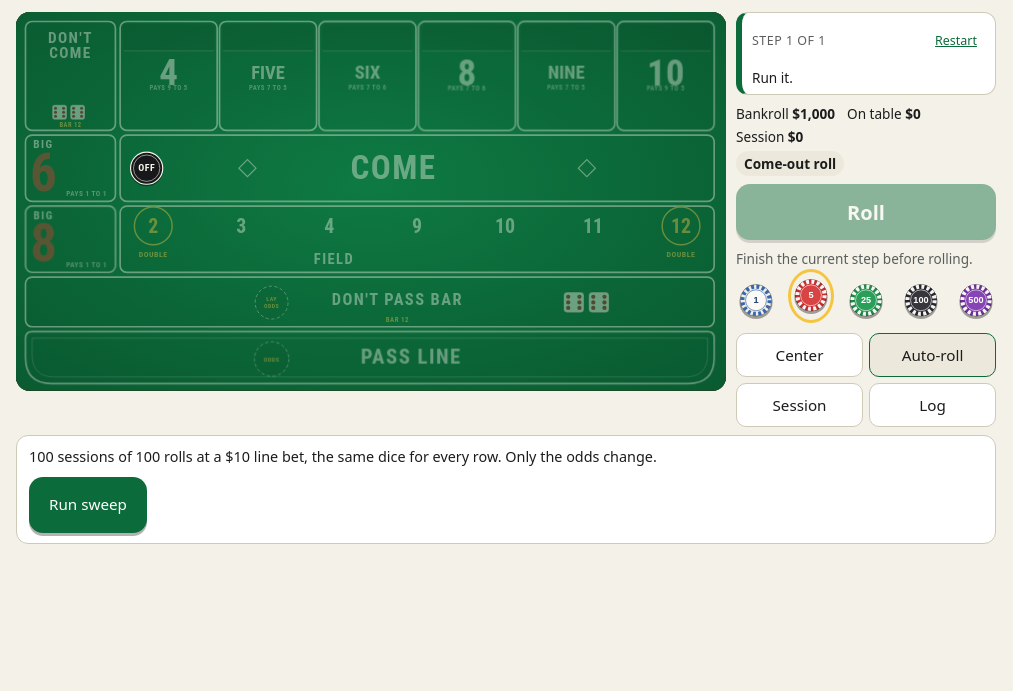
Test: auto-roll sweep scene › shows the sweep panel and completes the step when it finishes
Expected: the element with test id "sweep-panel" is shown, [29,447,657,533]
Click the button with test id "sweep-run" at [88, 505], box [29,477,147,533]
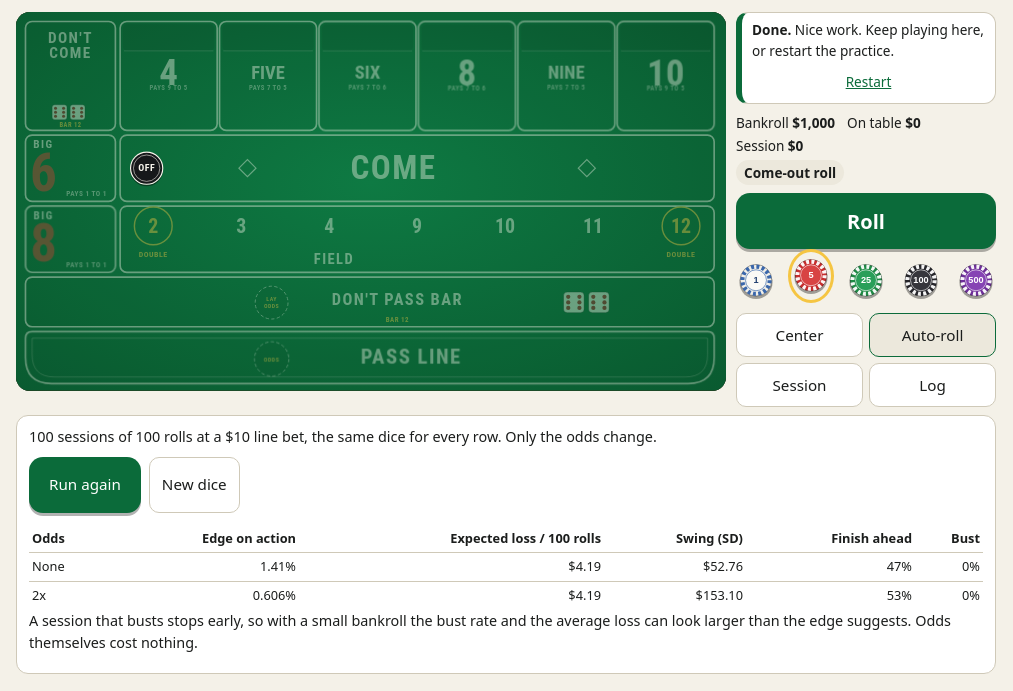
Now the number of rows with test id "sweep-row" is 2, box [29,553,983,582]; [29,582,983,610]
